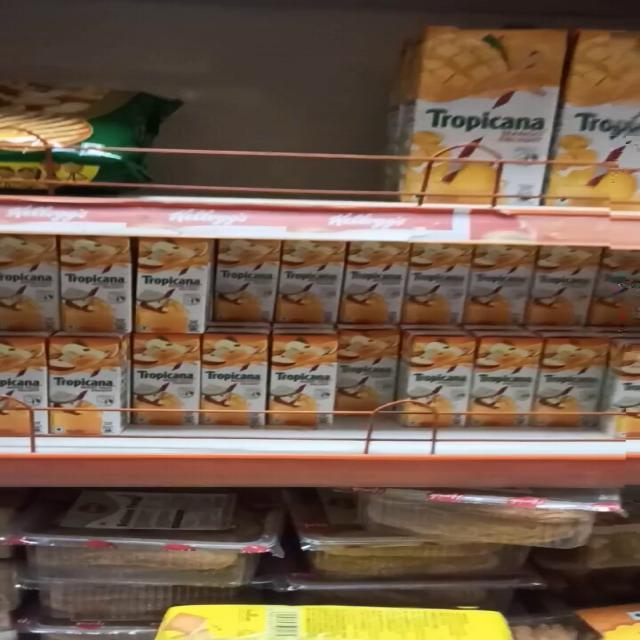Tropicana: (384, 21, 569, 211), (55, 230, 139, 337), (135, 237, 203, 332), (343, 245, 416, 332), (0, 233, 66, 324), (208, 240, 279, 323), (51, 339, 116, 429), (136, 336, 204, 420), (324, 337, 404, 408), (195, 338, 265, 419), (276, 240, 342, 322), (462, 246, 528, 327), (276, 341, 334, 433), (473, 335, 539, 415), (539, 337, 601, 422), (406, 243, 468, 327), (411, 337, 473, 415), (530, 255, 596, 328)
